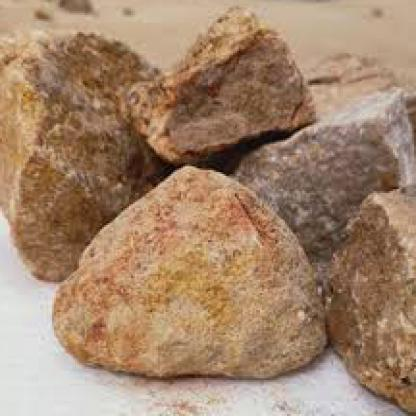Metamorphic_Quartize: (29, 149, 318, 401), (0, 23, 164, 287), (123, 0, 308, 174), (235, 95, 414, 254), (302, 197, 414, 414)
